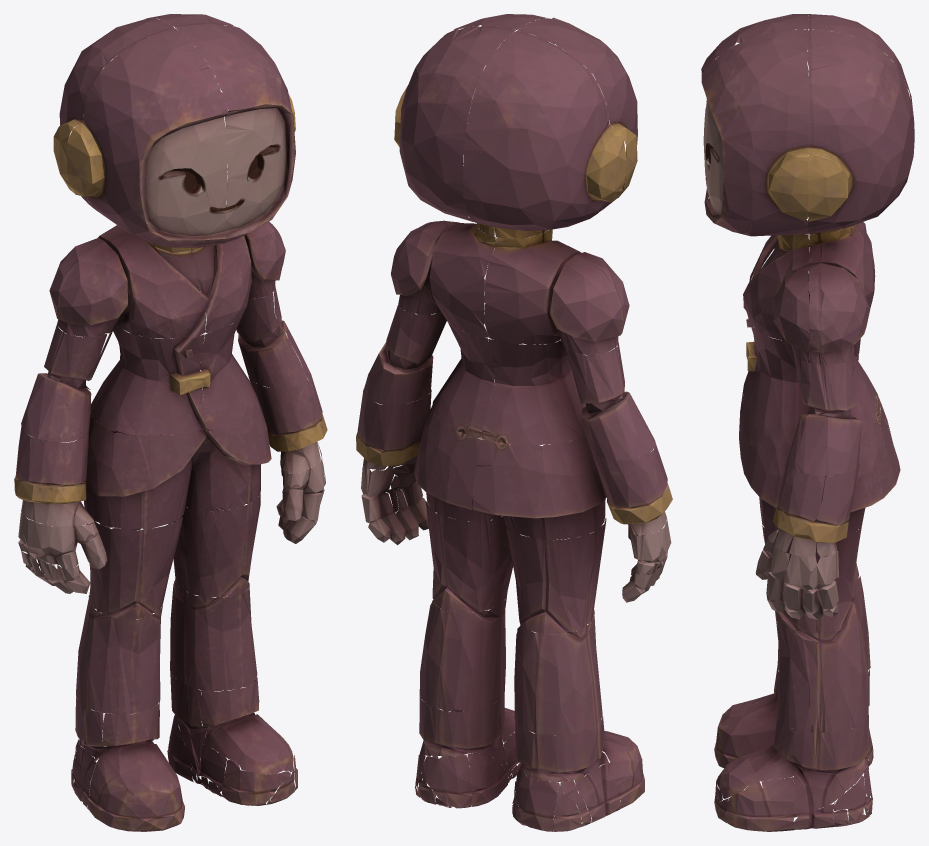
The model's file is npc_d.glb.
The picture shows the model from 3 angles, left to right: view 1: azimuth 30°, elevation 25°; view 2: azimuth 150°, elevation 25°; view 3: azimuth 270°, elevation 25°; orthographic projection.
Visible parts, largest first — view 1: world; view 2: world; view 3: world.
Boxes of the visible parts, left/top/right/bottom form: world: left=14, top=14, right=327, bottom=831; world: left=356, top=14, right=672, bottom=831; world: left=701, top=14, right=914, bottom=831.
Size of the model in its own units: 0.4182 by 1 by 0.2552.
1 material, 1 textured.
